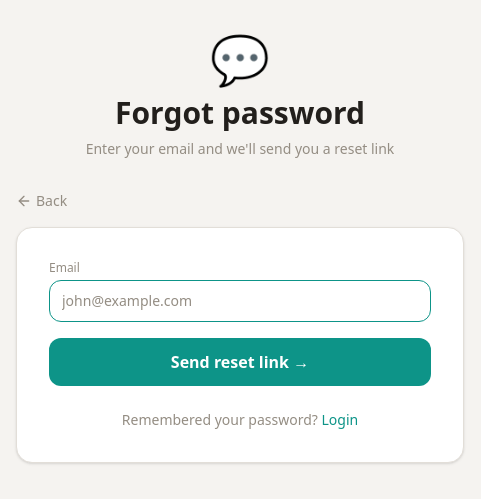
ForgotPassword page › shows a server error and keeps the form visible when the request fails
Type "alice@example.com" into the field with placeholder "john@example.com".
click(240, 301); type("alice@example.com")  # box x1=49 y1=280 x2=431 y2=322
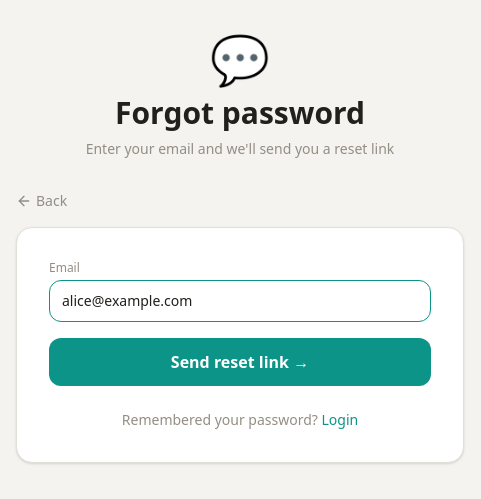
Click the button "Send reset link →".
click(240, 362)  # box x1=49 y1=338 x2=431 y2=386
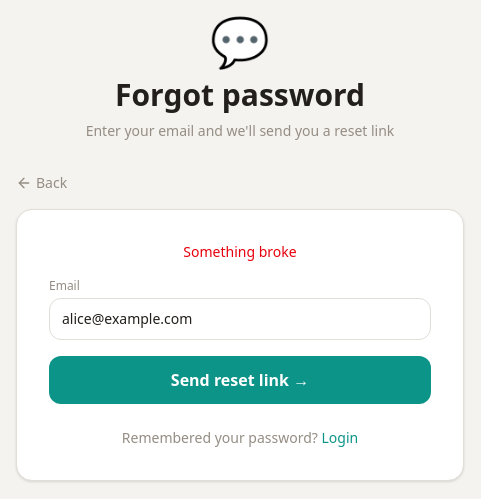
Now the text "Something broke" is shown, box x1=183 y1=242 x2=297 y2=261
